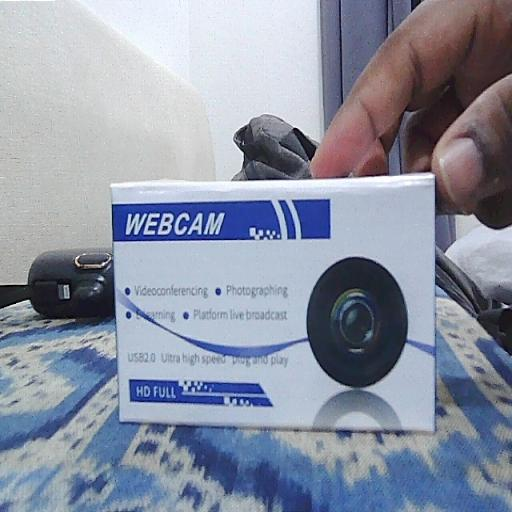webcam_box: (113, 174, 437, 433)
